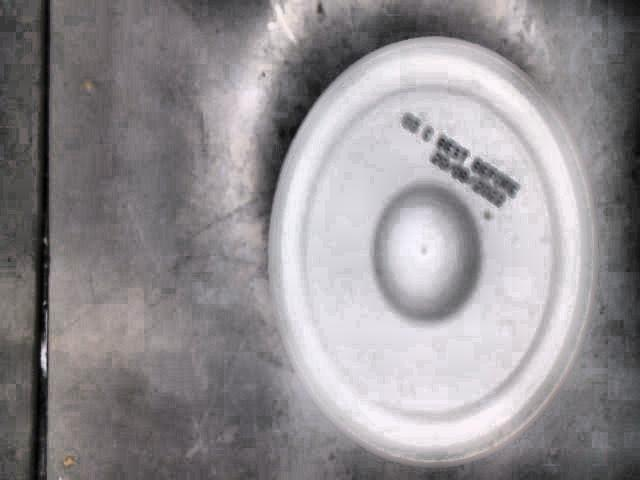Plastic: (267, 37, 599, 467)
